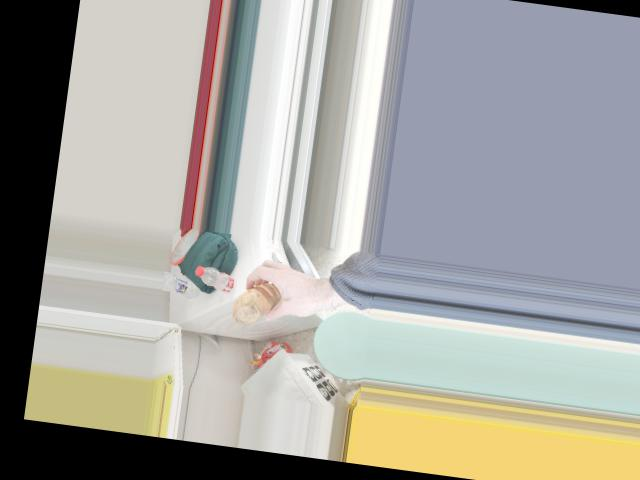sweet_potato: (233, 279, 285, 326)
